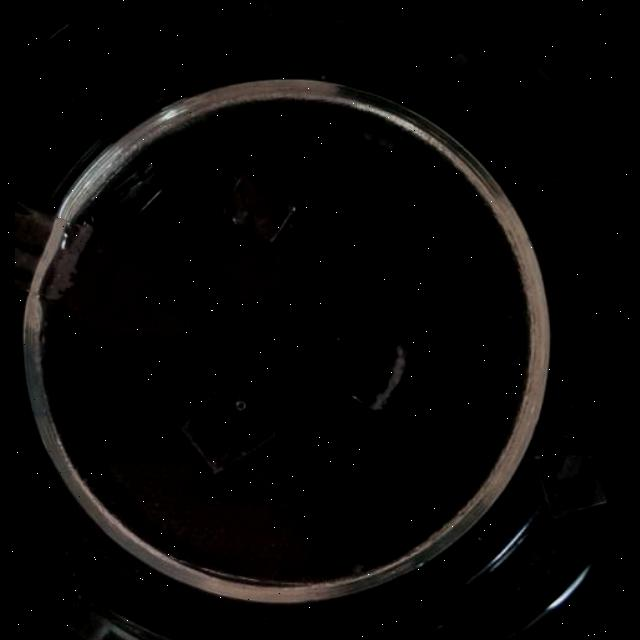Film: (178, 378, 276, 476), (322, 322, 410, 416), (14, 198, 86, 298), (224, 174, 298, 248), (537, 454, 607, 518)
